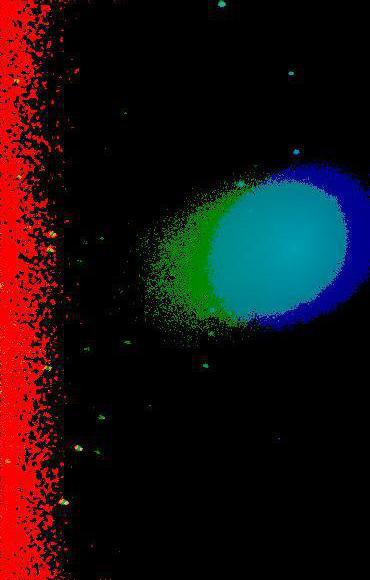star: (293, 60, 323, 90)
